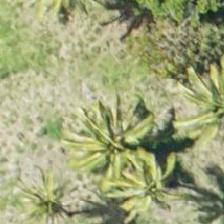coconut_tree: (70, 95, 160, 185), (98, 139, 188, 223), (0, 155, 89, 223), (176, 63, 223, 153)
